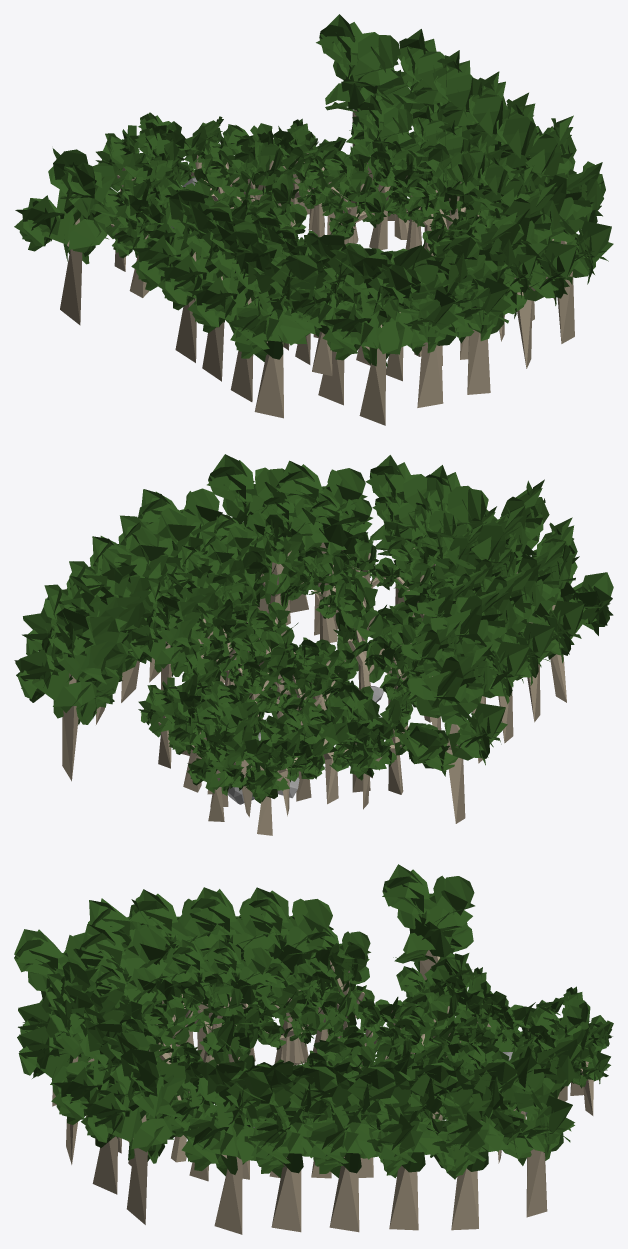
File: tree.glb
3 views of the same model, one above another, from view 1: azimuth 30°, elevation 25°; view 2: azimuth 150°, elevation 25°; view 3: azimuth 270°, elevation 25° (orthographic). The views are drawn at different scales.
Parts seen in each view (by area): view 1: Tree_cast_recieve; view 2: Tree_cast_recieve; view 3: Tree_cast_recieve.
Boxes of the visible parts, x1,y1,x2,y2 form: Tree_cast_recieve: (14, 14, 613, 425); Tree_cast_recieve: (14, 454, 613, 835); Tree_cast_recieve: (14, 864, 613, 1234).
Bounding box in the file's own units: 29.63 × 10.81 × 32.22.
